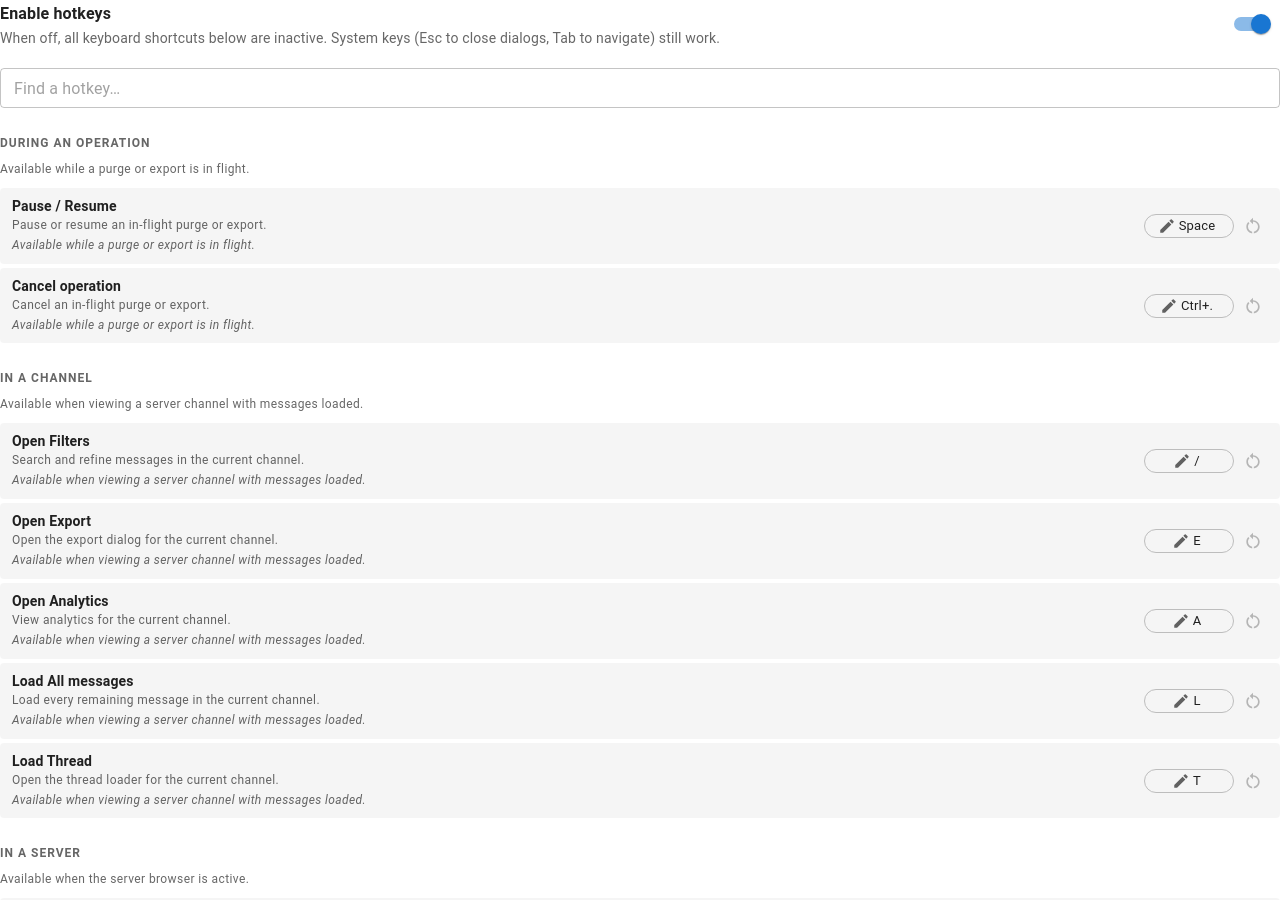
HotkeysTab › shows a no-results message when the search has no matches
Type "xyzzy-no-such-action" into the field with placeholder "Find a hotkey…". click: [640, 88]
box: x1=0 y1=68 x2=1279 y2=108
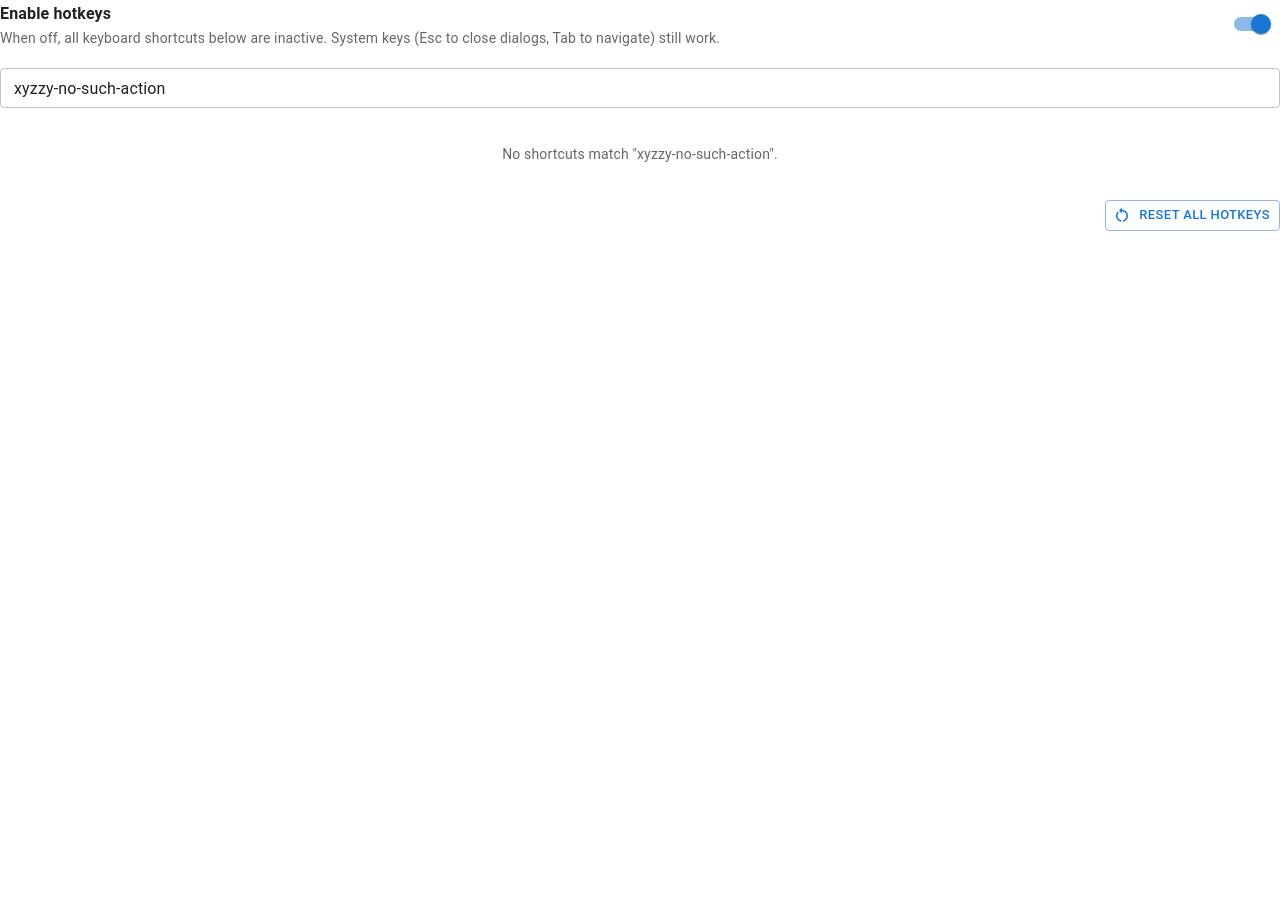
expect the text "No shortcuts match \"xyzzy-no-such-action\"." is shown: met, box x1=502 y1=146 x2=778 y2=162
